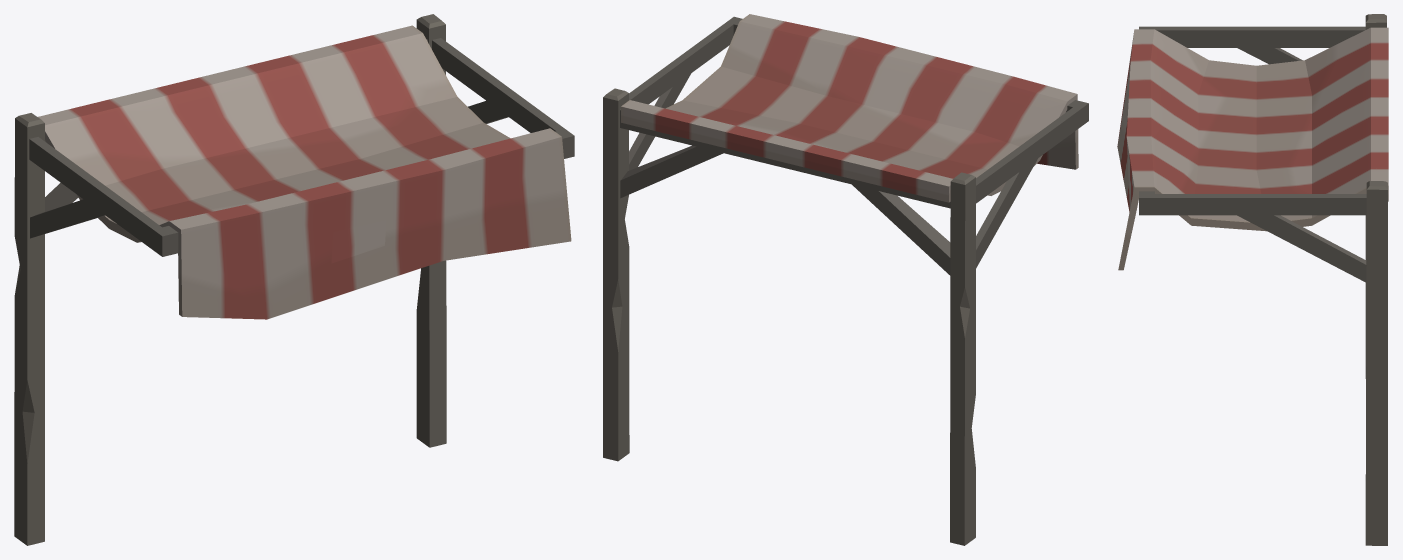
The model's file is SM_Bld_Village_ClothCover_02.fbx.
3 renders of one model, left to right at view 1: azimuth 30°, elevation 25°; view 2: azimuth 150°, elevation 25°; view 3: azimuth 270°, elevation 25°, orthographic. The views are drawn at different scales.
Visible parts, largest first — view 1: SM_Bld_Village_ClothCover_02; view 2: SM_Bld_Village_ClothCover_02; view 3: SM_Bld_Village_ClothCover_02.
Boxes of the visible parts, <box> form: SM_Bld_Village_ClothCover_02: <box>14,14,574,545</box>; SM_Bld_Village_ClothCover_02: <box>603,14,1088,545</box>; SM_Bld_Village_ClothCover_02: <box>1117,14,1388,545</box>.
Size of the model in its own units: 363 by 349 by 239.
